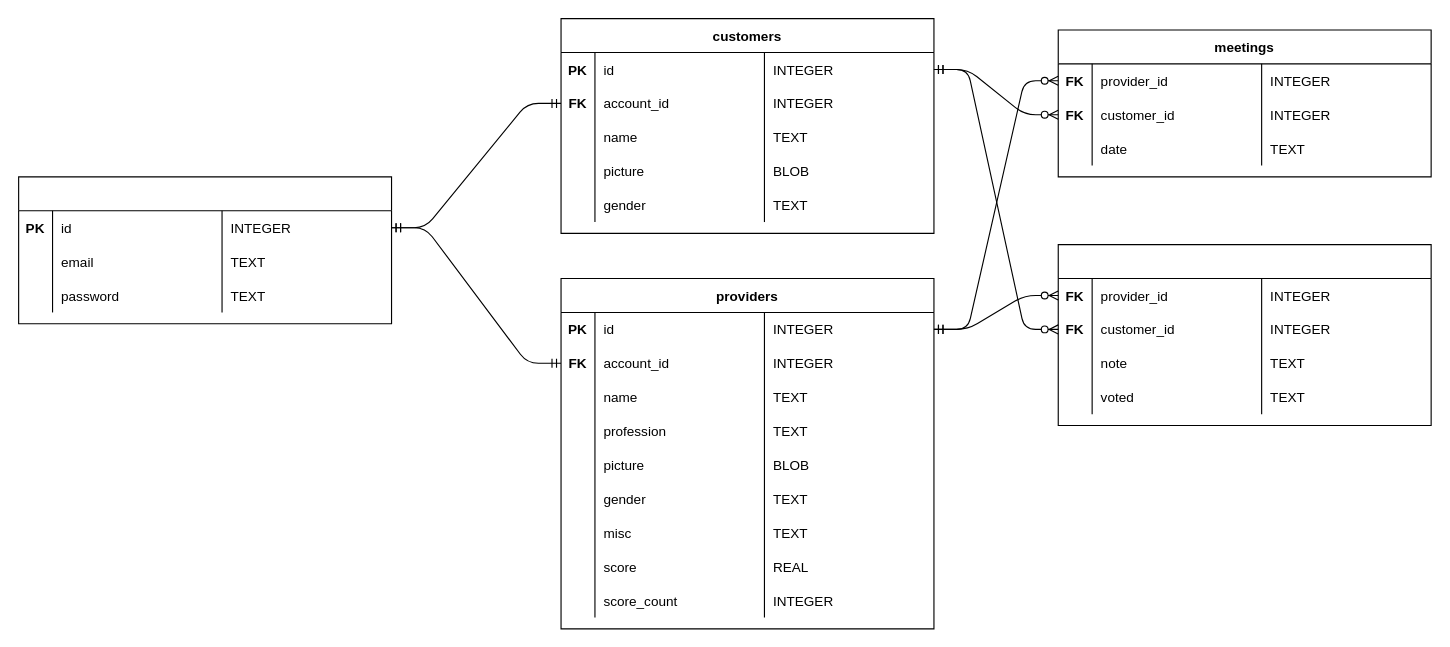
The diagram is 1450 pixels wide and 647 high, and some of its shapes have lost their labels. The shapes that lost their labels are listed below. From the top down, each one's box as (x1, y1, x2, y2) in pixels, then its label:
(18, 176, 392, 324): accounts
(1057, 244, 1431, 425): contacts
